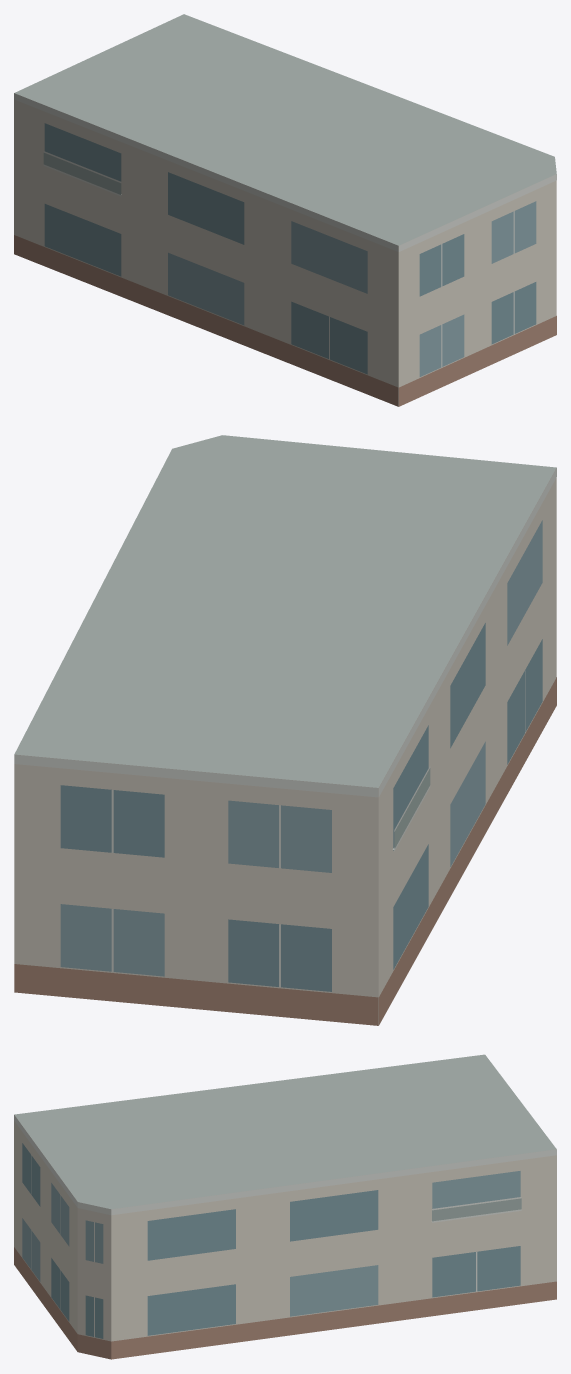
File: survey-upis-32765689.glb
The picture shows the model from 3 angles, top to bottom: view 1: azimuth 30°, elevation 25°; view 2: azimuth 150°, elevation 25°; view 3: azimuth 270°, elevation 25°; orthographic projection. The views are drawn at different scales.
Visible parts, largest first — view 1: survey-upis-32765689.tmp; view 2: survey-upis-32765689.tmp; view 3: survey-upis-32765689.tmp.
Part boxes in pixels (bbox=[...]): survey-upis-32765689.tmp: bbox=[14, 14, 556, 406]; survey-upis-32765689.tmp: bbox=[14, 435, 556, 1025]; survey-upis-32765689.tmp: bbox=[14, 1054, 556, 1359].
Bounding box in the file's own units: 13.5 × 6.1 × 19.99.
